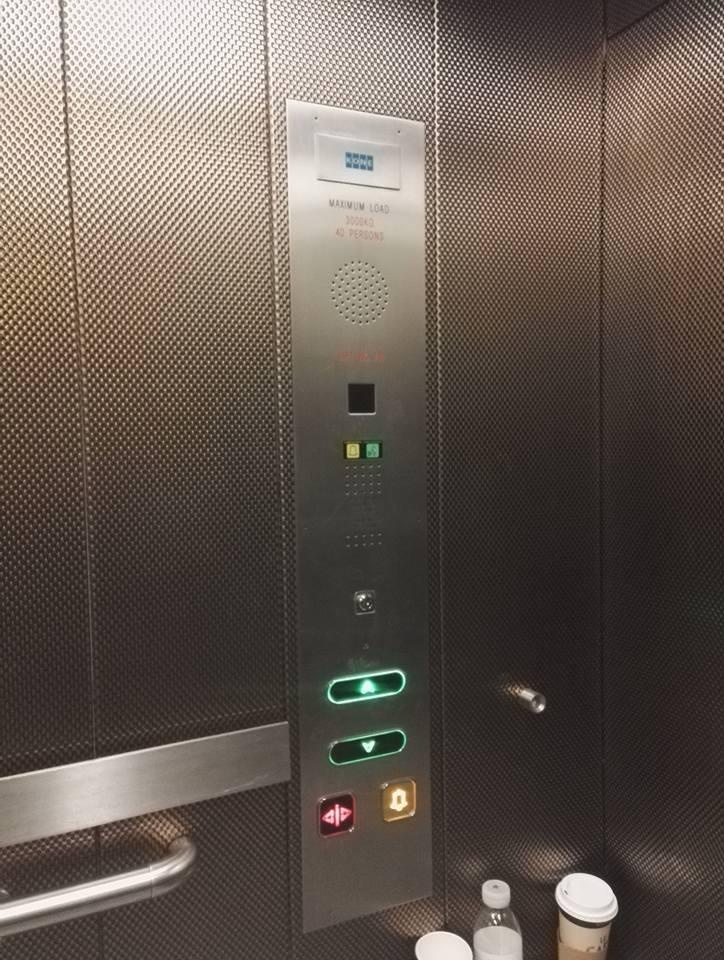alarm: (378, 777, 417, 823), (344, 441, 361, 460)
blur: (363, 440, 382, 460)
down: (327, 728, 407, 765)
keyhole: (353, 588, 375, 615)
led: (346, 382, 377, 415)
open: (316, 790, 357, 839)
up: (326, 669, 406, 704)
